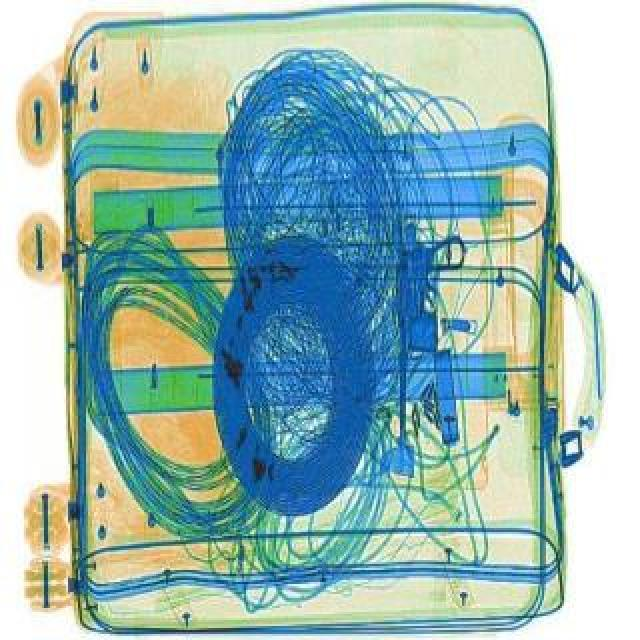gun: (390, 236, 468, 452)
